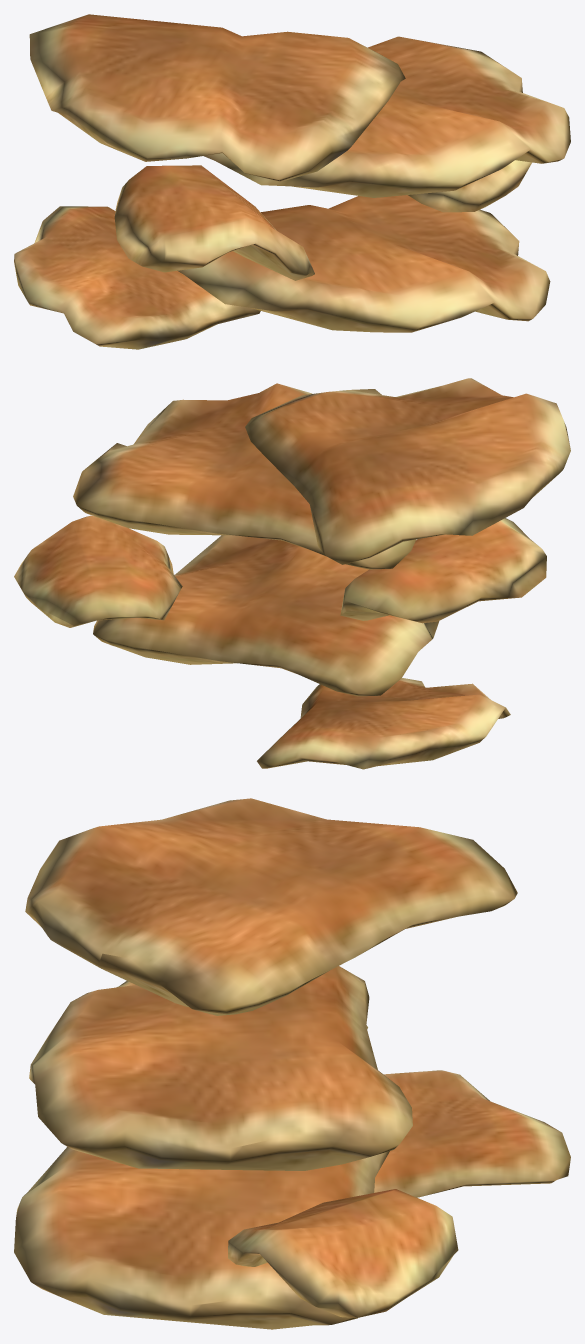
Rendered from orelha_de_pau.glb.
3 renders of one model, top to bottom at view 1: azimuth 30°, elevation 25°; view 2: azimuth 150°, elevation 25°; view 3: azimuth 270°, elevation 25°, orthographic. The views are drawn at different scales.
Visible parts, largest first — view 1: Mushroom_Laetiporus; view 2: Mushroom_Laetiporus; view 3: Mushroom_Laetiporus.
Boxes of the visible parts, x1=… form: Mushroom_Laetiporus: x1=14, y1=14, x2=570, y2=349; Mushroom_Laetiporus: x1=14, y1=378, x2=570, y2=769; Mushroom_Laetiporus: x1=14, y1=798, x2=570, y2=1329.
Size of the model in its own units: 1.36 by 0.767 by 1.1.
Materials: 1 (1 with a texture image).
